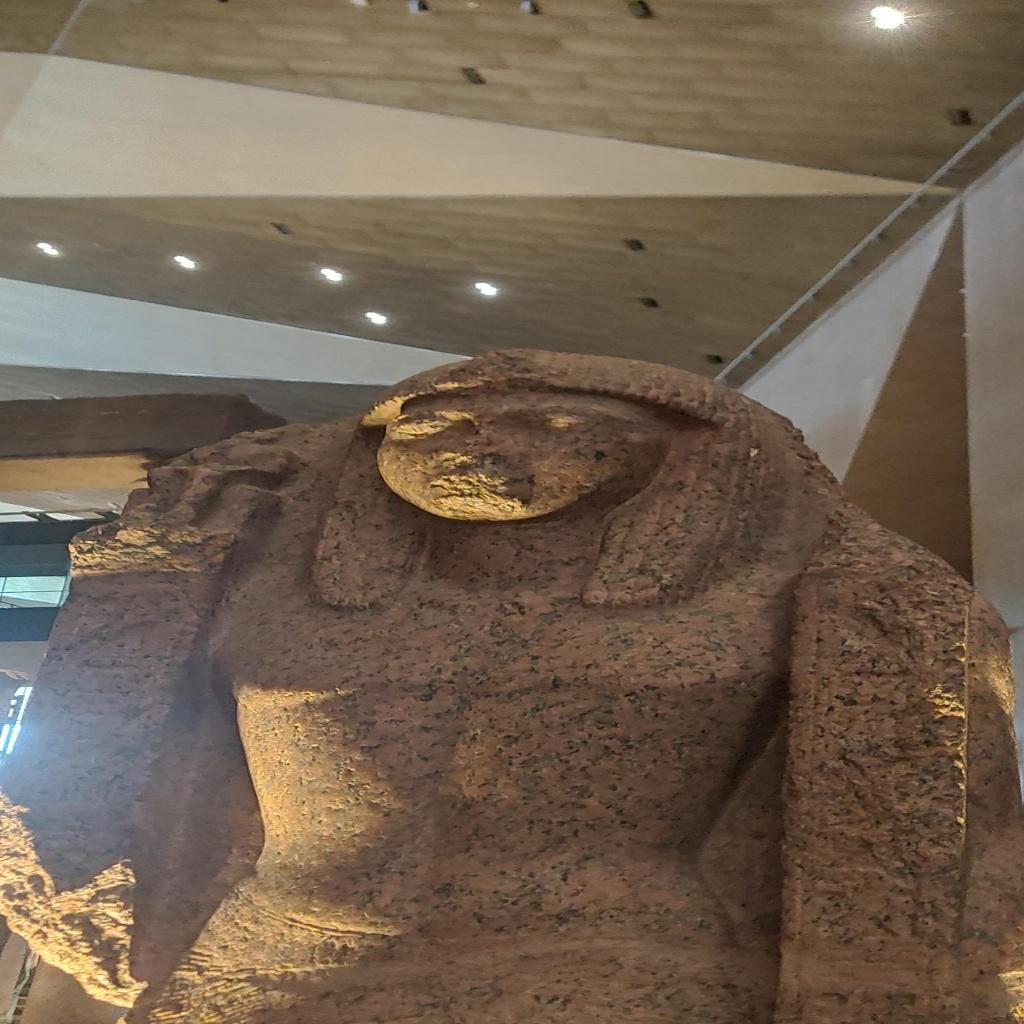Statue of Merenptah as standard Bearer: (8, 345, 1016, 1020)
